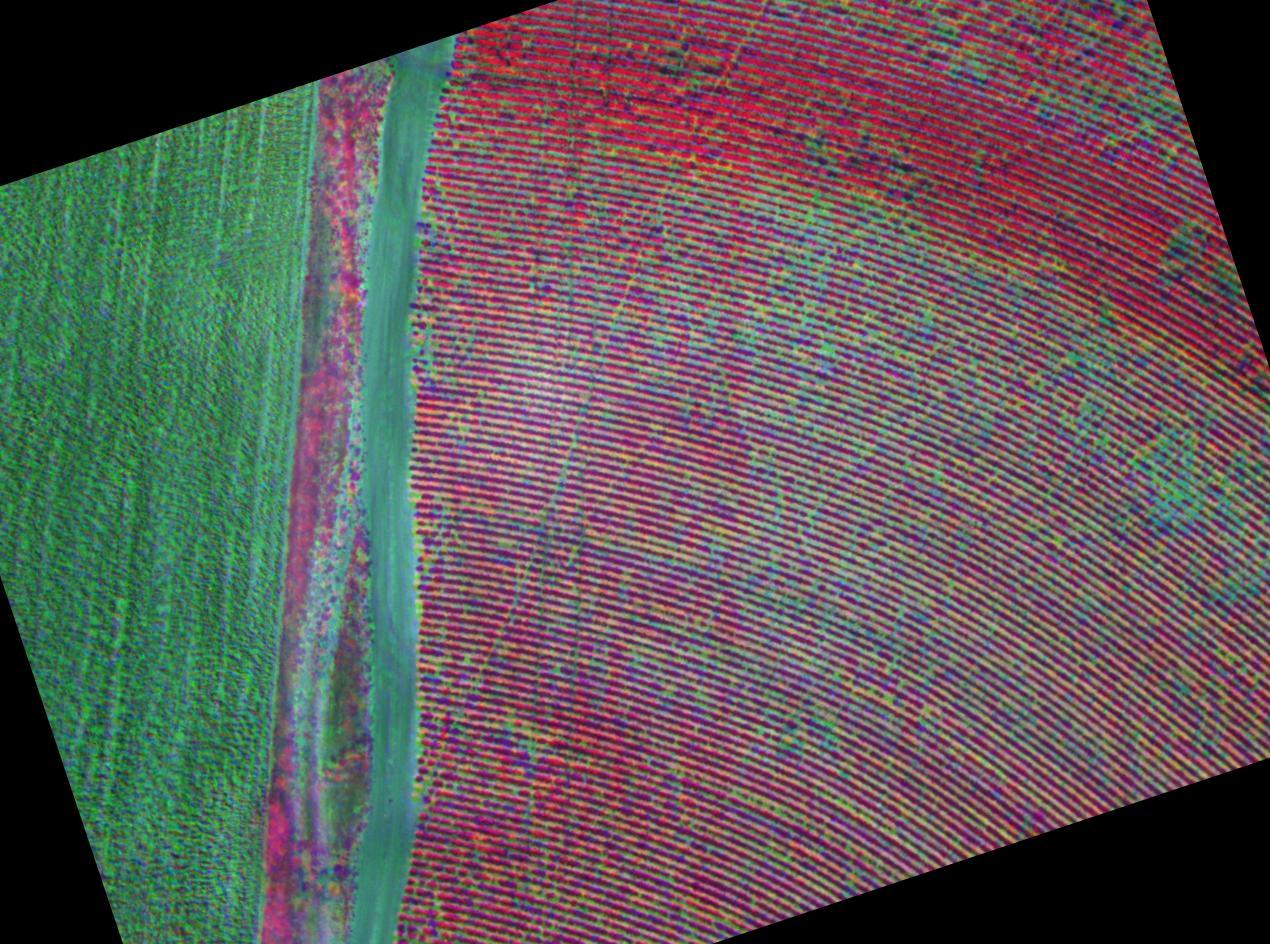dc: (824, 347, 829, 352), (779, 492, 783, 497), (791, 399, 795, 403), (885, 696, 889, 700), (925, 707, 929, 711), (530, 741, 533, 746), (760, 307, 763, 311)
